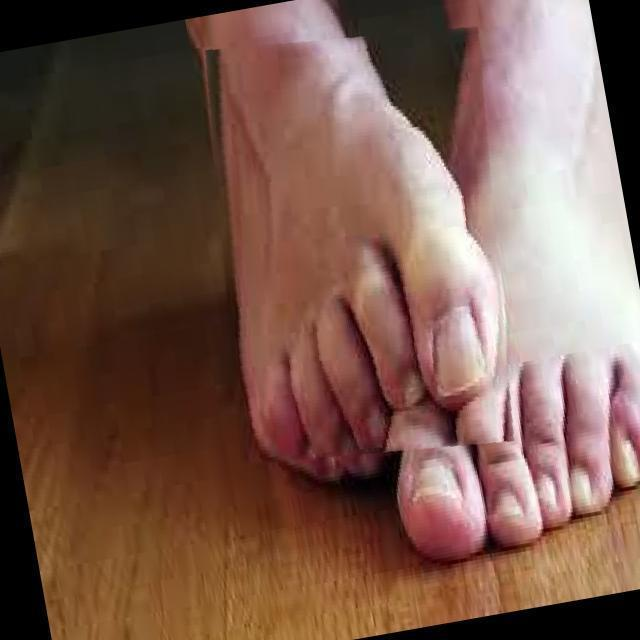No_Shoes: (169, 53, 505, 441), (399, 48, 640, 572)
